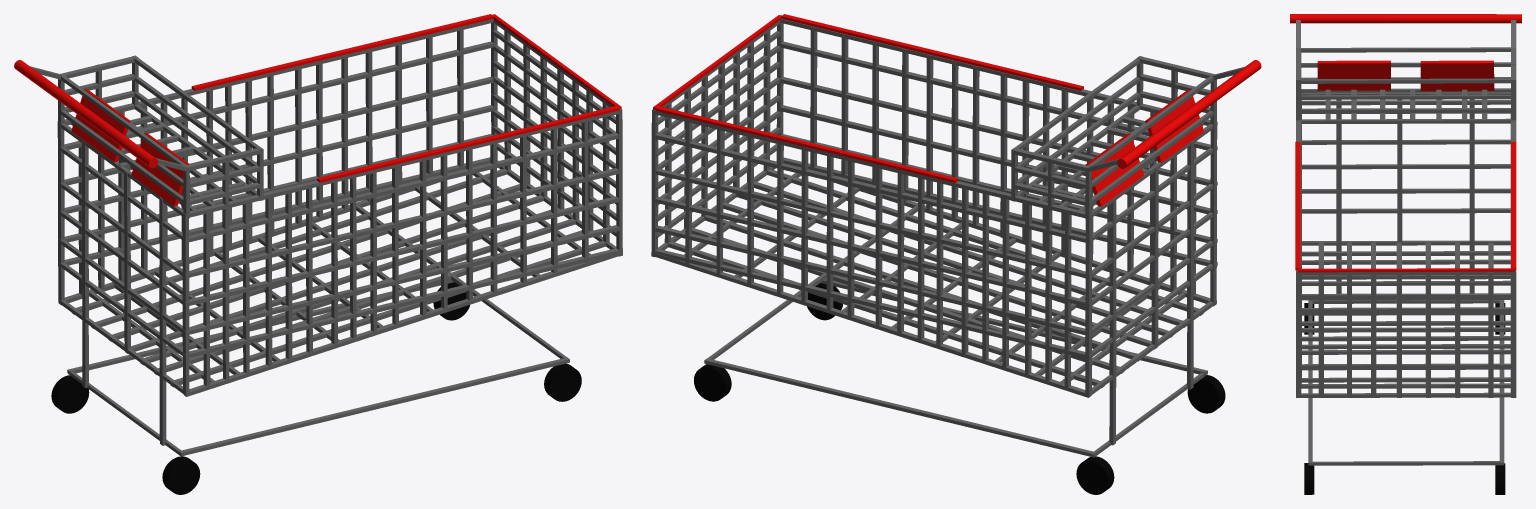
The model's file is shopping_cart_joined.fbx.
3 views of the same model, side by side, from view 1: azimuth 30°, elevation 25°; view 2: azimuth 150°, elevation 25°; view 3: azimuth 270°, elevation 25° (orthographic). The views are drawn at different scales.
Visible parts, largest first — view 1: Cube.128, Cylinder.003, Cylinder.004, Cylinder.002; view 2: Cube.128, Cylinder.002, Cylinder.001, Cylinder.003; view 3: Cube.128, Cylinder.004, Cylinder.001.
Boxes of the visible parts, bbox=[...] form: Cube.128: bbox=[14, 14, 622, 456]; Cylinder.003: bbox=[162, 456, 200, 494]; Cylinder.004: bbox=[544, 363, 581, 401]; Cylinder.002: bbox=[51, 375, 89, 413]; Cube.128: bbox=[651, 14, 1261, 457]; Cylinder.002: bbox=[1076, 456, 1114, 494]; Cylinder.001: bbox=[694, 364, 731, 401]; Cylinder.003: bbox=[1187, 375, 1225, 413]; Cube.128: bbox=[1290, 14, 1521, 465]; Cylinder.004: bbox=[1304, 463, 1314, 494]; Cylinder.001: bbox=[1495, 463, 1505, 494].
Bounding box in the file's own units: 6.36 × 4.47 × 3.11.
